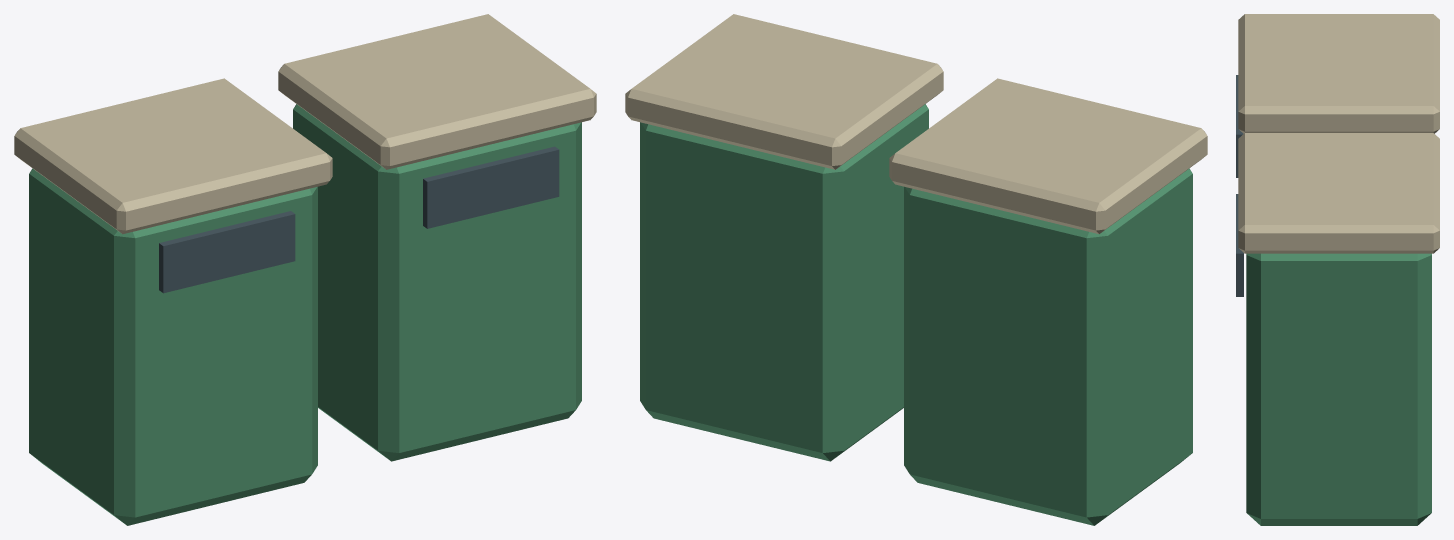
Rendered from recycling_station.glb.
3 views of the same model, side by side, from view 1: azimuth 30°, elevation 25°; view 2: azimuth 150°, elevation 25°; view 3: azimuth 270°, elevation 25° (orthographic). The views are drawn at different scales.
Parts seen in each view (by area): view 1: recycling_station; view 2: recycling_station; view 3: recycling_station.
Part boxes in pixels (x1=…): recycling_station: x1=14, y1=14, x2=596, y2=525; recycling_station: x1=625, y1=14, x2=1207, y2=525; recycling_station: x1=1236, y1=14, x2=1439, y2=525.
Size of the model in its own units: 1.6 by 1.06 by 0.6375.
